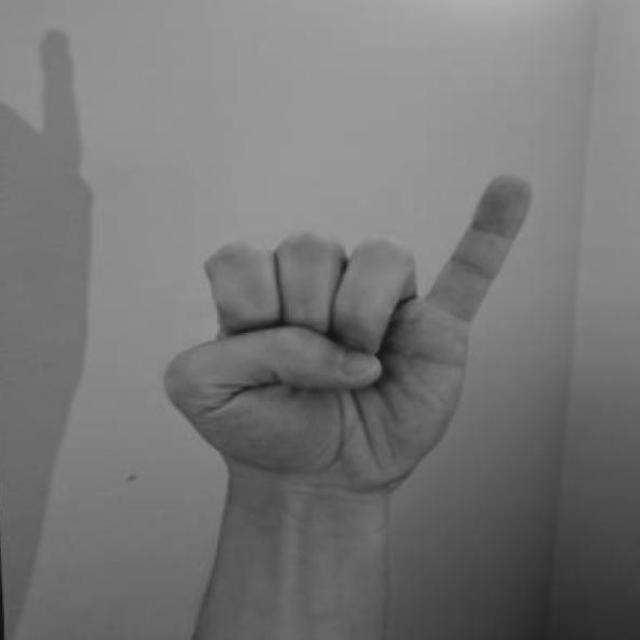I: (163, 162, 545, 526)
